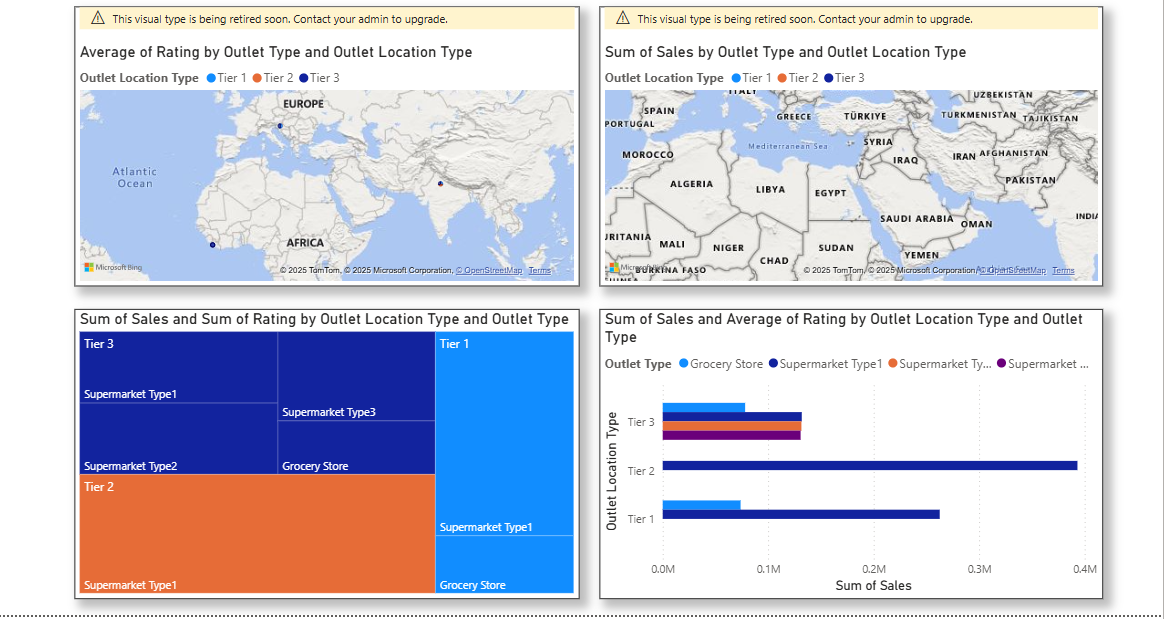

The page's visual inventory and layout, read from the dashboard file:
{"tool":"powerbi","page":{"name":"Geographical Insights","canvas":[1280,720],"ordinal":2},"visuals":[{"type":"map","fields":{"Category":["BlinkIT Grocery Data.Outlet Type"],"Series":["BlinkIT Grocery Data.Outlet Location Type"]},"box":[85.1,52.1,554.4,307.4],"z":0},{"type":"filledMap","fields":{"Series":["BlinkIT Grocery Data.Outlet Location Type"],"Category":["BlinkIT Grocery Data.Outlet Type"]},"box":[661.4,52.1,553,307.4],"z":1000},{"type":"treemap","fields":{"Group":["BlinkIT Grocery Data.Outlet Location Type"],"Details":["BlinkIT Grocery Data.Outlet Type"],"Values":["Sum(BlinkIT Grocery Data.Sales)"]},"box":[85.1,384.2,554.4,318.4],"z":2000},{"type":"clusteredBarChart","fields":{"Category":["BlinkIT Grocery Data.Outlet Location Type"],"Y":["Sum(BlinkIT Grocery Data.Sales)"],"Series":["BlinkIT Grocery Data.Outlet Type"]},"box":[661.4,384.2,553,318.4],"z":3000}]}

Visuals, with their boxes in screenshot pixels (x1, y1, x2, y2):
map - BlinkIT Grocery Data.Outlet Type x BlinkIT Grocery Data.Outlet Location Type: [left=71, top=5, right=576, bottom=285]
filledMap - BlinkIT Grocery Data.Outlet Location Type x BlinkIT Grocery Data.Outlet Type: [left=596, top=5, right=1100, bottom=285]
treemap - BlinkIT Grocery Data.Outlet Location Type x BlinkIT Grocery Data.Outlet Type: [left=71, top=307, right=576, bottom=597]
clusteredBarChart - BlinkIT Grocery Data.Outlet Location Type x Sum(BlinkIT Grocery Data.Sales): [left=596, top=307, right=1100, bottom=597]
